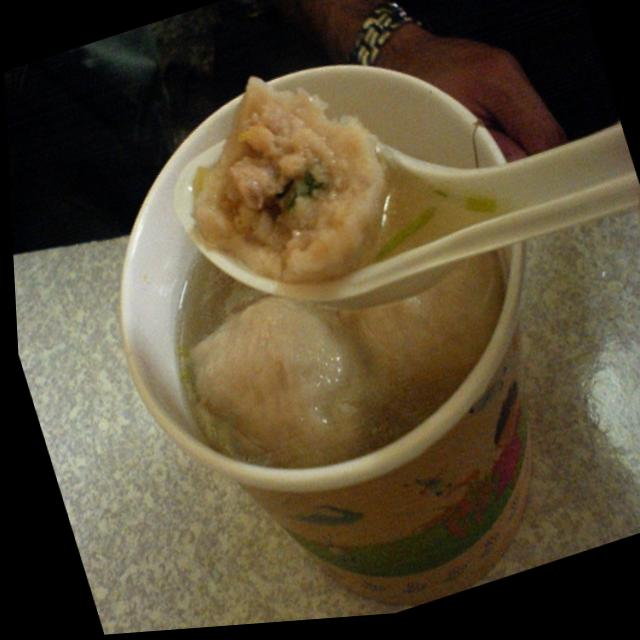熟制海鲜: (85, 35, 547, 525)
